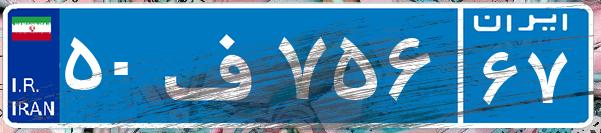0: (110, 28, 158, 105)
5: (330, 28, 385, 110), (57, 26, 110, 107)
6: (385, 28, 445, 110), (475, 38, 525, 113)
7: (273, 28, 330, 110), (525, 38, 570, 115)
ف: (158, 15, 273, 115)
